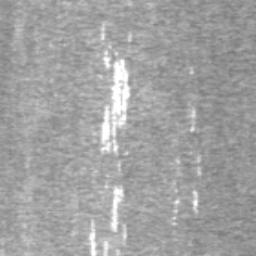White rust: (100, 49, 132, 157), (109, 184, 127, 240), (87, 218, 109, 256), (171, 198, 180, 226), (191, 189, 199, 213), (190, 105, 196, 133), (196, 154, 202, 177), (100, 21, 105, 41), (127, 30, 132, 42), (188, 65, 194, 75)
